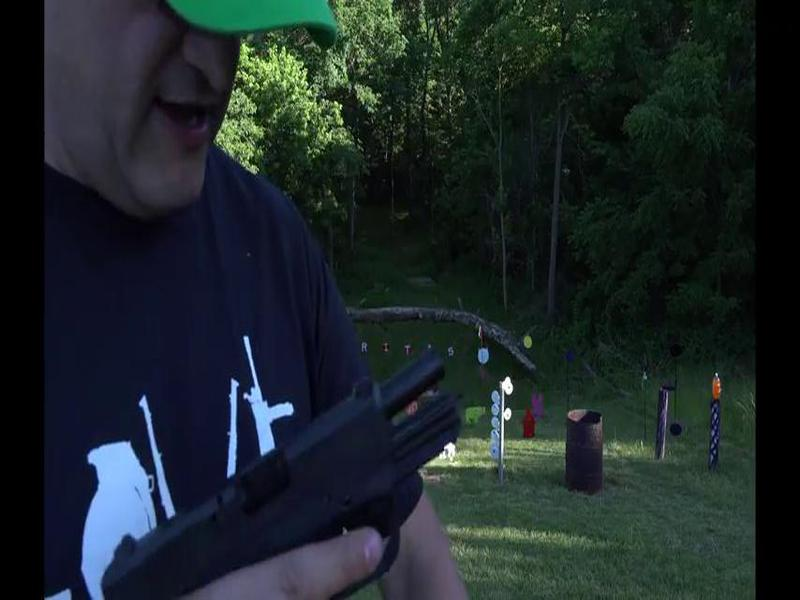Pistola: (104, 344, 472, 600)
